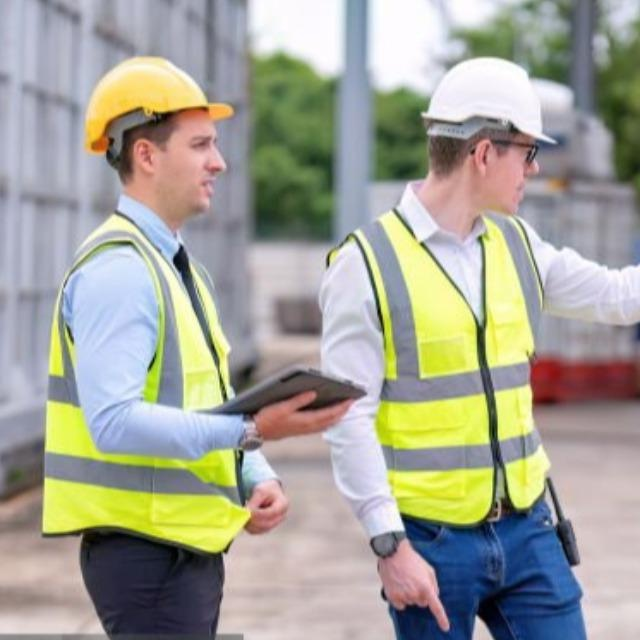Con_Casco: (417, 57, 555, 220)
Con_Chaleco: (39, 233, 248, 551), (326, 216, 539, 521)
